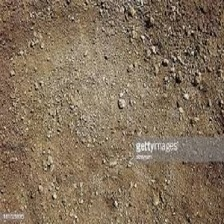sandy_soil: (13, 20, 203, 202)
